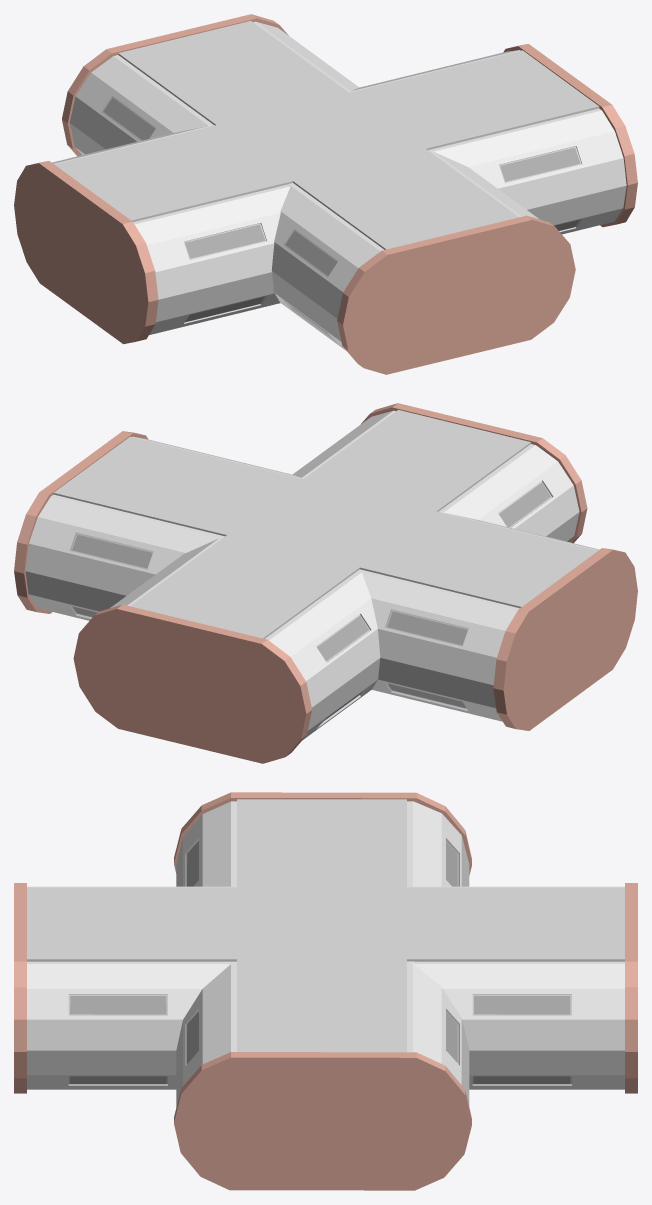
The picture shows the model from 3 angles, top to bottom: view 1: azimuth 30°, elevation 25°; view 2: azimuth 150°, elevation 25°; view 3: azimuth 270°, elevation 25°; orthographic projection. The views are drawn at different scales.
Parts seen in each view (by area): view 1: Cylinder_1; view 2: Cylinder_1; view 3: Cylinder_1.
Boxes of the visible parts, x1,y1,x2,y2 form: Cylinder_1: [14, 14, 637, 374]; Cylinder_1: [14, 403, 637, 763]; Cylinder_1: [14, 792, 637, 1190].
Bounding box in the file's own units: 1264 × 296 × 1257.
